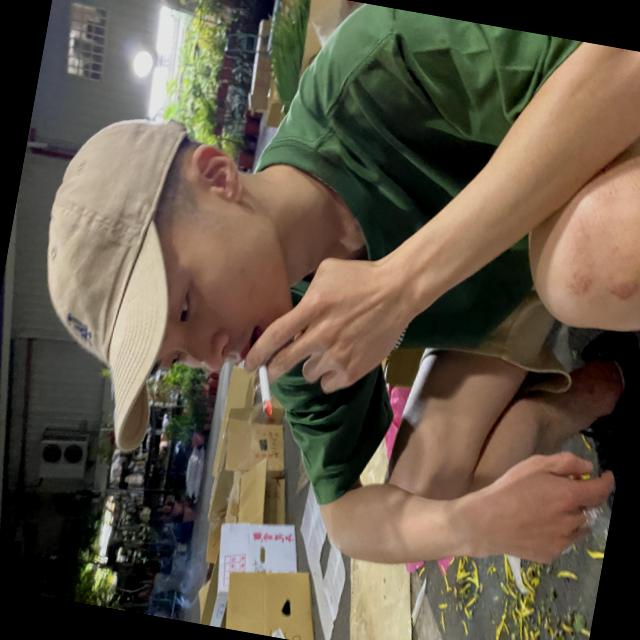smoke: (239, 342, 292, 431)
